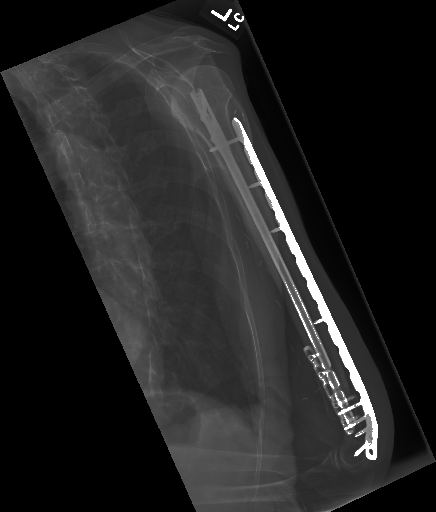implant: (193, 89, 379, 464)
